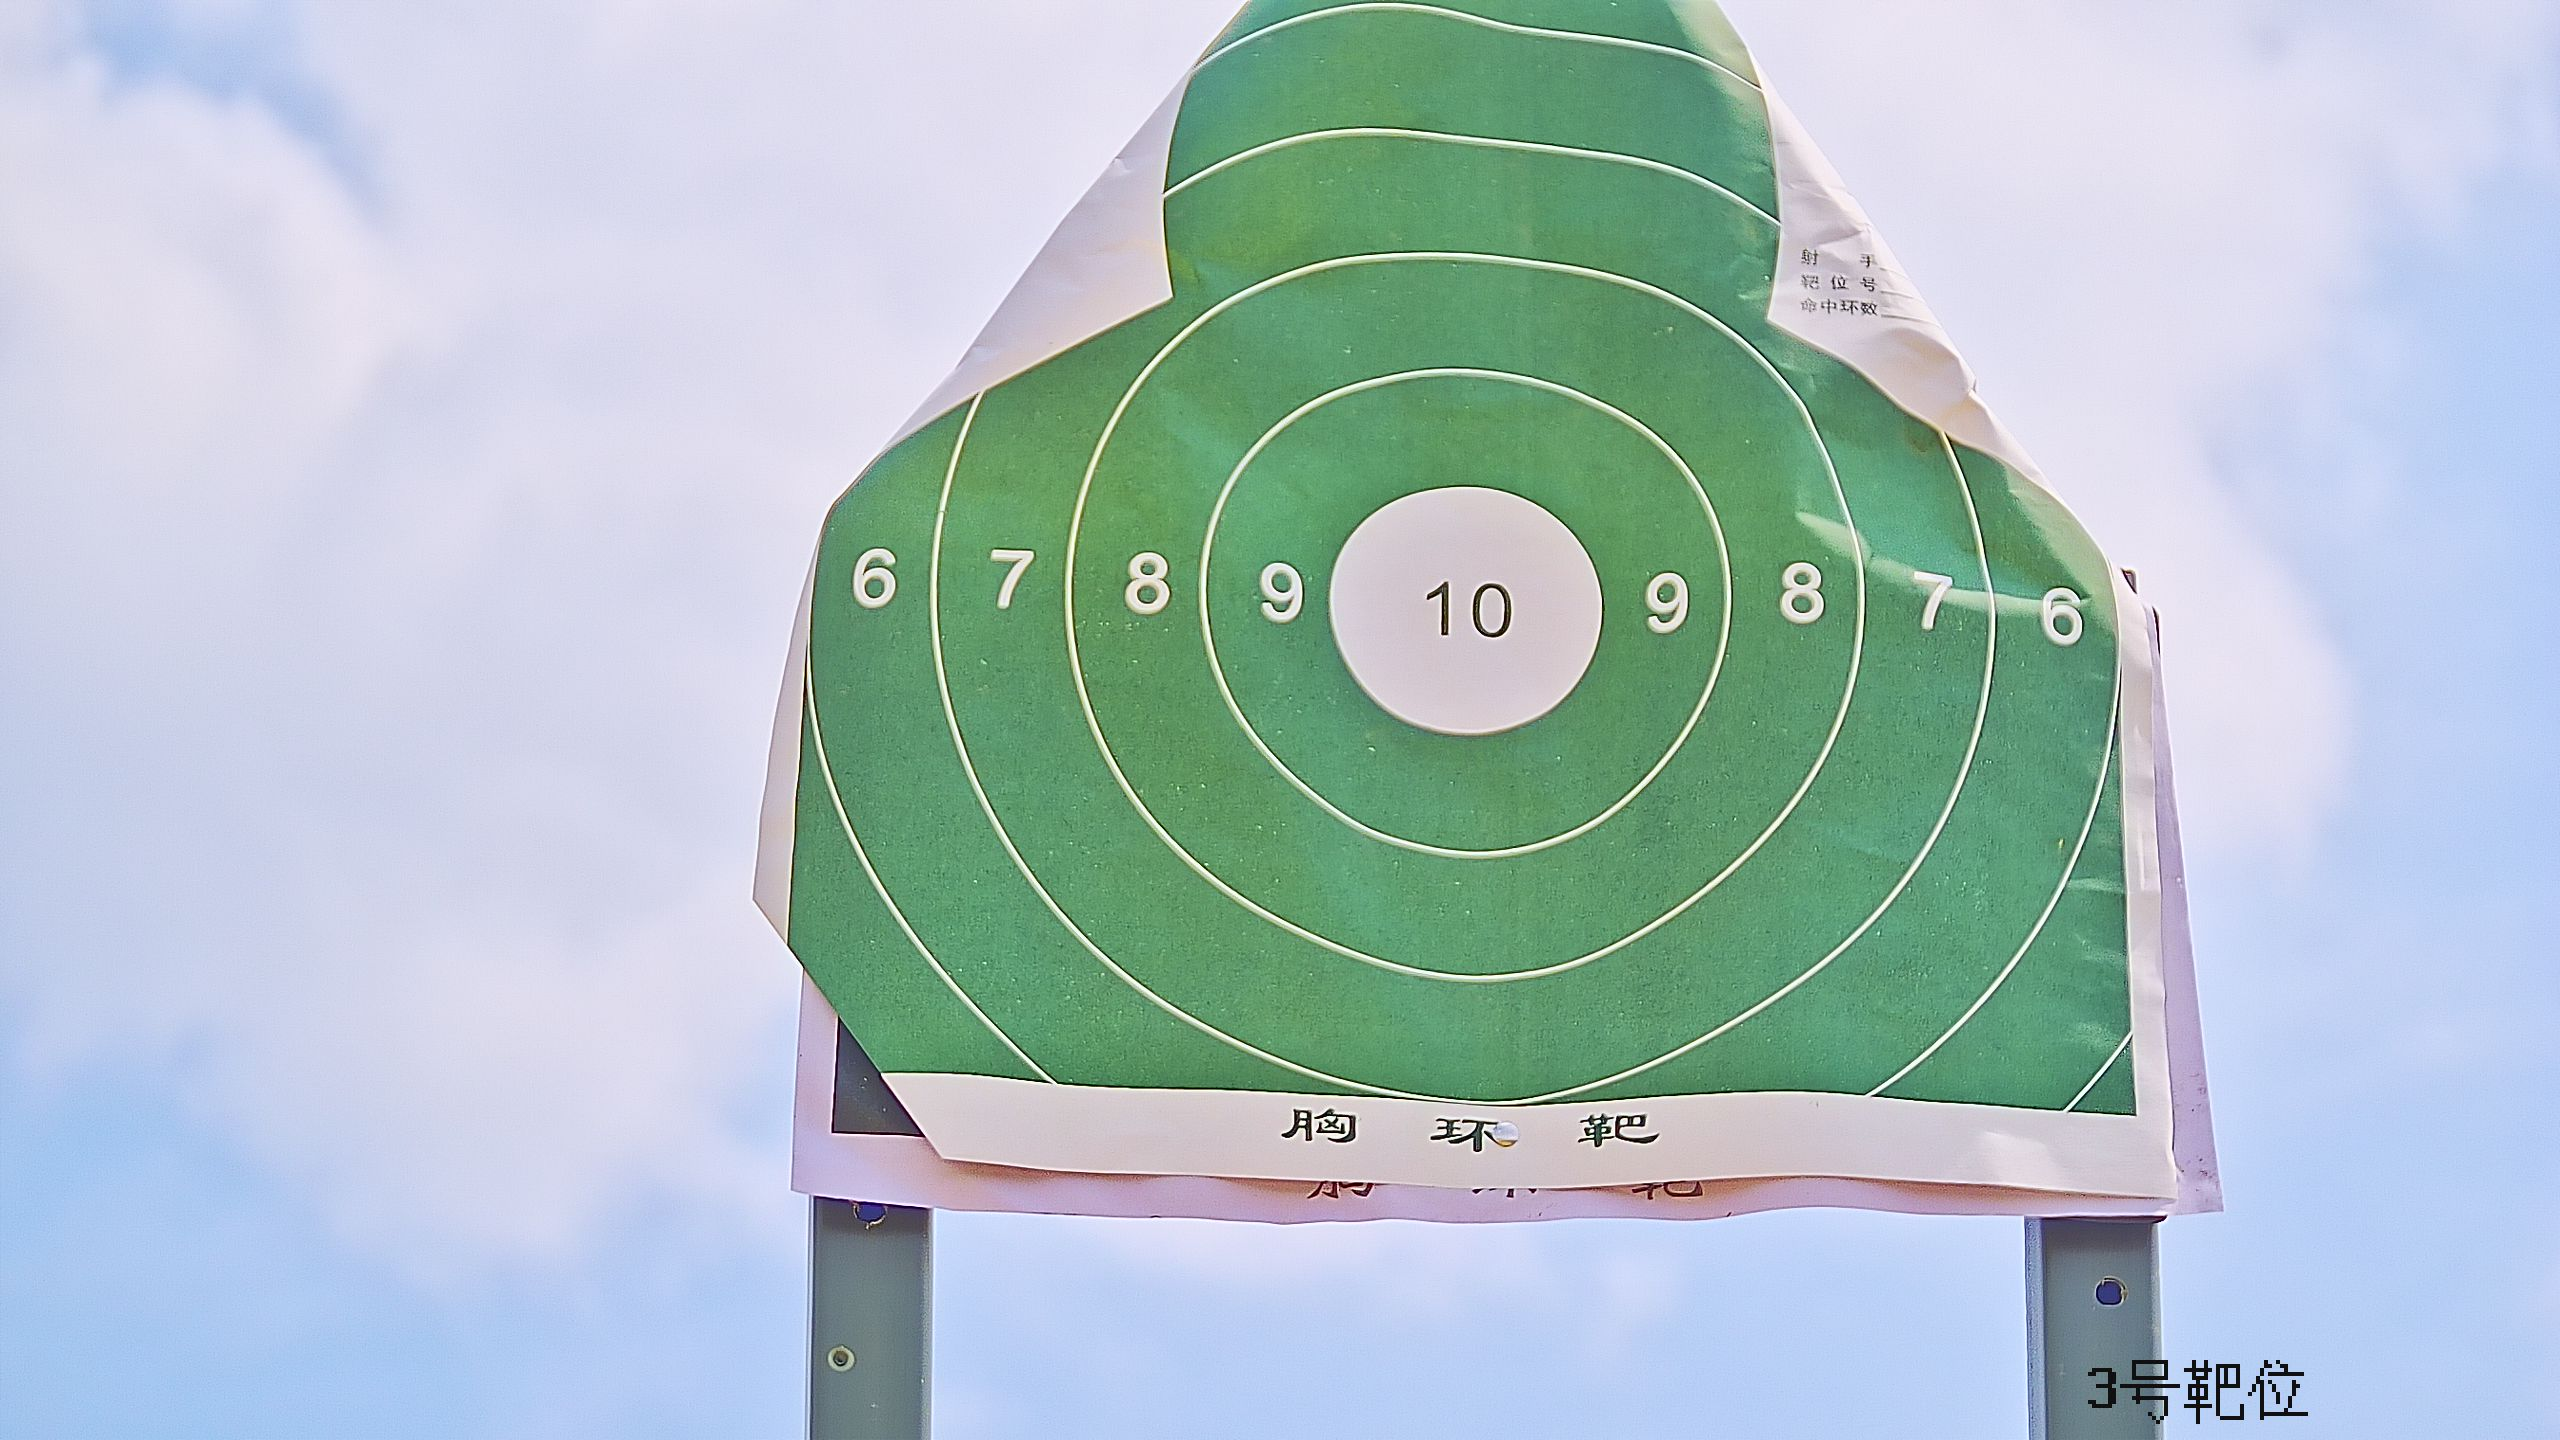kernel: (1456, 607, 1466, 610)
target: (789, 2, 2147, 1127)
ten: (1326, 485, 1609, 744)
